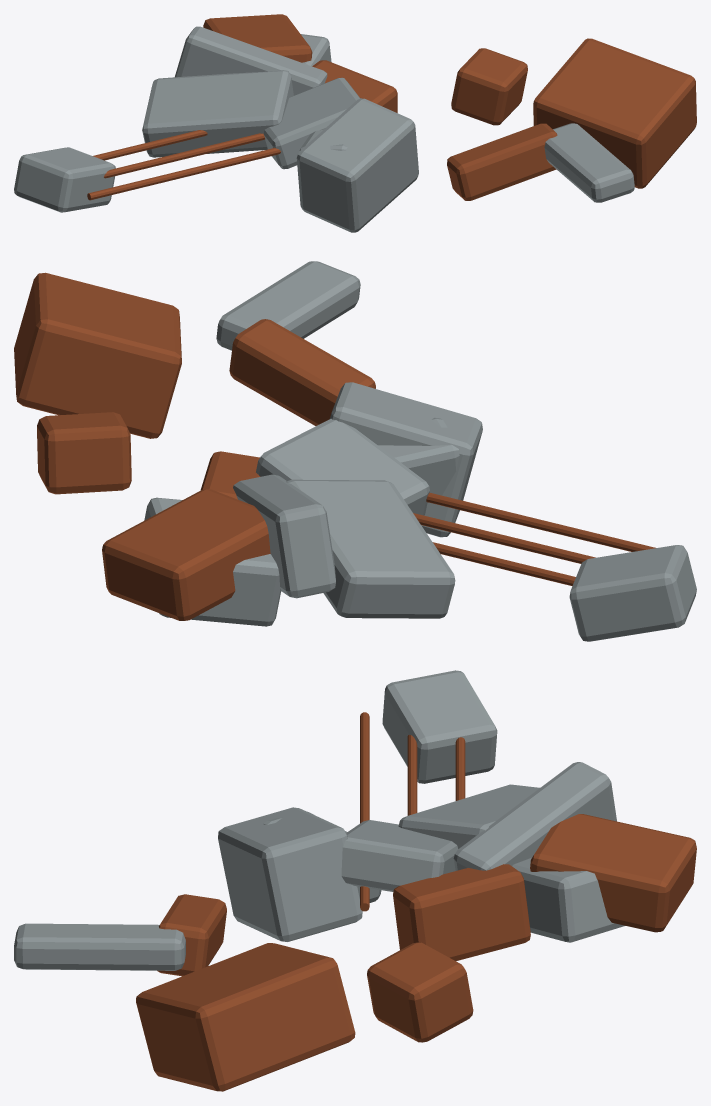
The model's file is SM_FC01_Prop_DebrisCluster_A.fbx.
3 views of the same model, one above another, from view 1: azimuth 30°, elevation 25°; view 2: azimuth 150°, elevation 25°; view 3: azimuth 270°, elevation 25° (orthographic). The views are drawn at different scales.
Visible parts, largest first — view 1: SM_FC01_Prop_DebrisCluster_A_Chunk_12, SM_FC01_Prop_DebrisCluster_A_Chunk_04, SM_FC01_Prop_DebrisCluster_A_Chunk_02, SM_FC01_Prop_DebrisCluster_A_Chunk_06, SM_FC01_Prop_DebrisCluster_A_Chunk_11, SM_FC01_Prop_DebrisCluster_A_Chunk_10, SM_FC01_Prop_DebrisCluster_A_Chunk_03, SM_FC01_Prop_DebrisCluster_A_Chunk_01, SM_FC01_Prop_DebrisCluster_A_Chunk_05, SM_FC01_Prop_DebrisCluster_A_Chunk_00, SM_FC01_Prop_DebrisCluster_A_Chunk_09, SM_FC01_Prop_DebrisCluster_A_Rebar_00 (+3 smaller); view 2: SM_FC01_Prop_DebrisCluster_A_Chunk_12, SM_FC01_Prop_DebrisCluster_A_Chunk_02, SM_FC01_Prop_DebrisCluster_A_Chunk_00, SM_FC01_Prop_DebrisCluster_A_Chunk_11, SM_FC01_Prop_DebrisCluster_A_Chunk_06, SM_FC01_Prop_DebrisCluster_A_Chunk_04, SM_FC01_Prop_DebrisCluster_A_Chunk_10, SM_FC01_Prop_DebrisCluster_A_Chunk_05, SM_FC01_Prop_DebrisCluster_A_Chunk_03, SM_FC01_Prop_DebrisCluster_A_Chunk_01, SM_FC01_Prop_DebrisCluster_A_Chunk_08, SM_FC01_Prop_DebrisCluster_A_Chunk_07 (+4 smaller); view 3: SM_FC01_Prop_DebrisCluster_A_Chunk_12, SM_FC01_Prop_DebrisCluster_A_Chunk_04, SM_FC01_Prop_DebrisCluster_A_Chunk_00, SM_FC01_Prop_DebrisCluster_A_Chunk_09, SM_FC01_Prop_DebrisCluster_A_Chunk_11, SM_FC01_Prop_DebrisCluster_A_Chunk_01, SM_FC01_Prop_DebrisCluster_A_Chunk_03, SM_FC01_Prop_DebrisCluster_A_Chunk_10, SM_FC01_Prop_DebrisCluster_A_Chunk_05, SM_FC01_Prop_DebrisCluster_A_Chunk_08, SM_FC01_Prop_DebrisCluster_A_Chunk_02, SM_FC01_Prop_DebrisCluster_A_Chunk_06 (+3 smaller).
Part boxes in pixels (bbox=[...]): SM_FC01_Prop_DebrisCluster_A_Chunk_12: bbox=[533, 38, 696, 188]; SM_FC01_Prop_DebrisCluster_A_Chunk_04: bbox=[296, 98, 418, 232]; SM_FC01_Prop_DebrisCluster_A_Chunk_02: bbox=[142, 70, 293, 157]; SM_FC01_Prop_DebrisCluster_A_Chunk_06: bbox=[447, 123, 557, 200]; SM_FC01_Prop_DebrisCluster_A_Chunk_11: bbox=[14, 147, 115, 212]; SM_FC01_Prop_DebrisCluster_A_Chunk_10: bbox=[175, 26, 327, 95]; SM_FC01_Prop_DebrisCluster_A_Chunk_03: bbox=[451, 48, 527, 125]; SM_FC01_Prop_DebrisCluster_A_Chunk_01: bbox=[544, 123, 634, 202]; SM_FC01_Prop_DebrisCluster_A_Chunk_05: bbox=[263, 77, 360, 169]; SM_FC01_Prop_DebrisCluster_A_Chunk_00: bbox=[203, 14, 312, 62]; SM_FC01_Prop_DebrisCluster_A_Chunk_09: bbox=[312, 60, 397, 112]; SM_FC01_Prop_DebrisCluster_A_Rebar_00: bbox=[87, 148, 280, 200]; SM_FC01_Prop_DebrisCluster_A_Chunk_12: bbox=[14, 272, 181, 438]; SM_FC01_Prop_DebrisCluster_A_Chunk_02: bbox=[286, 479, 455, 618]; SM_FC01_Prop_DebrisCluster_A_Chunk_00: bbox=[102, 489, 270, 620]; SM_FC01_Prop_DebrisCluster_A_Chunk_11: bbox=[569, 545, 696, 641]; SM_FC01_Prop_DebrisCluster_A_Chunk_06: bbox=[229, 319, 375, 425]; SM_FC01_Prop_DebrisCluster_A_Chunk_04: bbox=[330, 382, 482, 537]; SM_FC01_Prop_DebrisCluster_A_Chunk_10: bbox=[233, 474, 335, 598]; SM_FC01_Prop_DebrisCluster_A_Chunk_05: bbox=[256, 418, 429, 515]; SM_FC01_Prop_DebrisCluster_A_Chunk_03: bbox=[37, 412, 131, 494]; SM_FC01_Prop_DebrisCluster_A_Chunk_01: bbox=[216, 261, 360, 350]; SM_FC01_Prop_DebrisCluster_A_Chunk_08: bbox=[144, 497, 281, 626]; SM_FC01_Prop_DebrisCluster_A_Chunk_07: bbox=[378, 417, 459, 502]; SM_FC01_Prop_DebrisCluster_A_Chunk_12: bbox=[136, 943, 355, 1091]; SM_FC01_Prop_DebrisCluster_A_Chunk_04: bbox=[218, 807, 362, 941]; SM_FC01_Prop_DebrisCluster_A_Chunk_00: bbox=[530, 814, 696, 932]; SM_FC01_Prop_DebrisCluster_A_Chunk_09: bbox=[393, 864, 530, 960]; SM_FC01_Prop_DebrisCluster_A_Chunk_11: bbox=[382, 670, 497, 783]; SM_FC01_Prop_DebrisCluster_A_Chunk_01: bbox=[14, 923, 185, 970]; SM_FC01_Prop_DebrisCluster_A_Chunk_03: bbox=[367, 942, 473, 1042]; SM_FC01_Prop_DebrisCluster_A_Chunk_10: bbox=[453, 762, 616, 870]; SM_FC01_Prop_DebrisCluster_A_Chunk_05: bbox=[341, 820, 457, 891]; SM_FC01_Prop_DebrisCluster_A_Chunk_08: bbox=[512, 857, 625, 942]; SM_FC01_Prop_DebrisCluster_A_Chunk_02: bbox=[398, 784, 539, 848]; SM_FC01_Prop_DebrisCluster_A_Chunk_06: bbox=[157, 894, 226, 976].
Size of the model in its own units: 3.29 by 0.5799 by 2.57.
